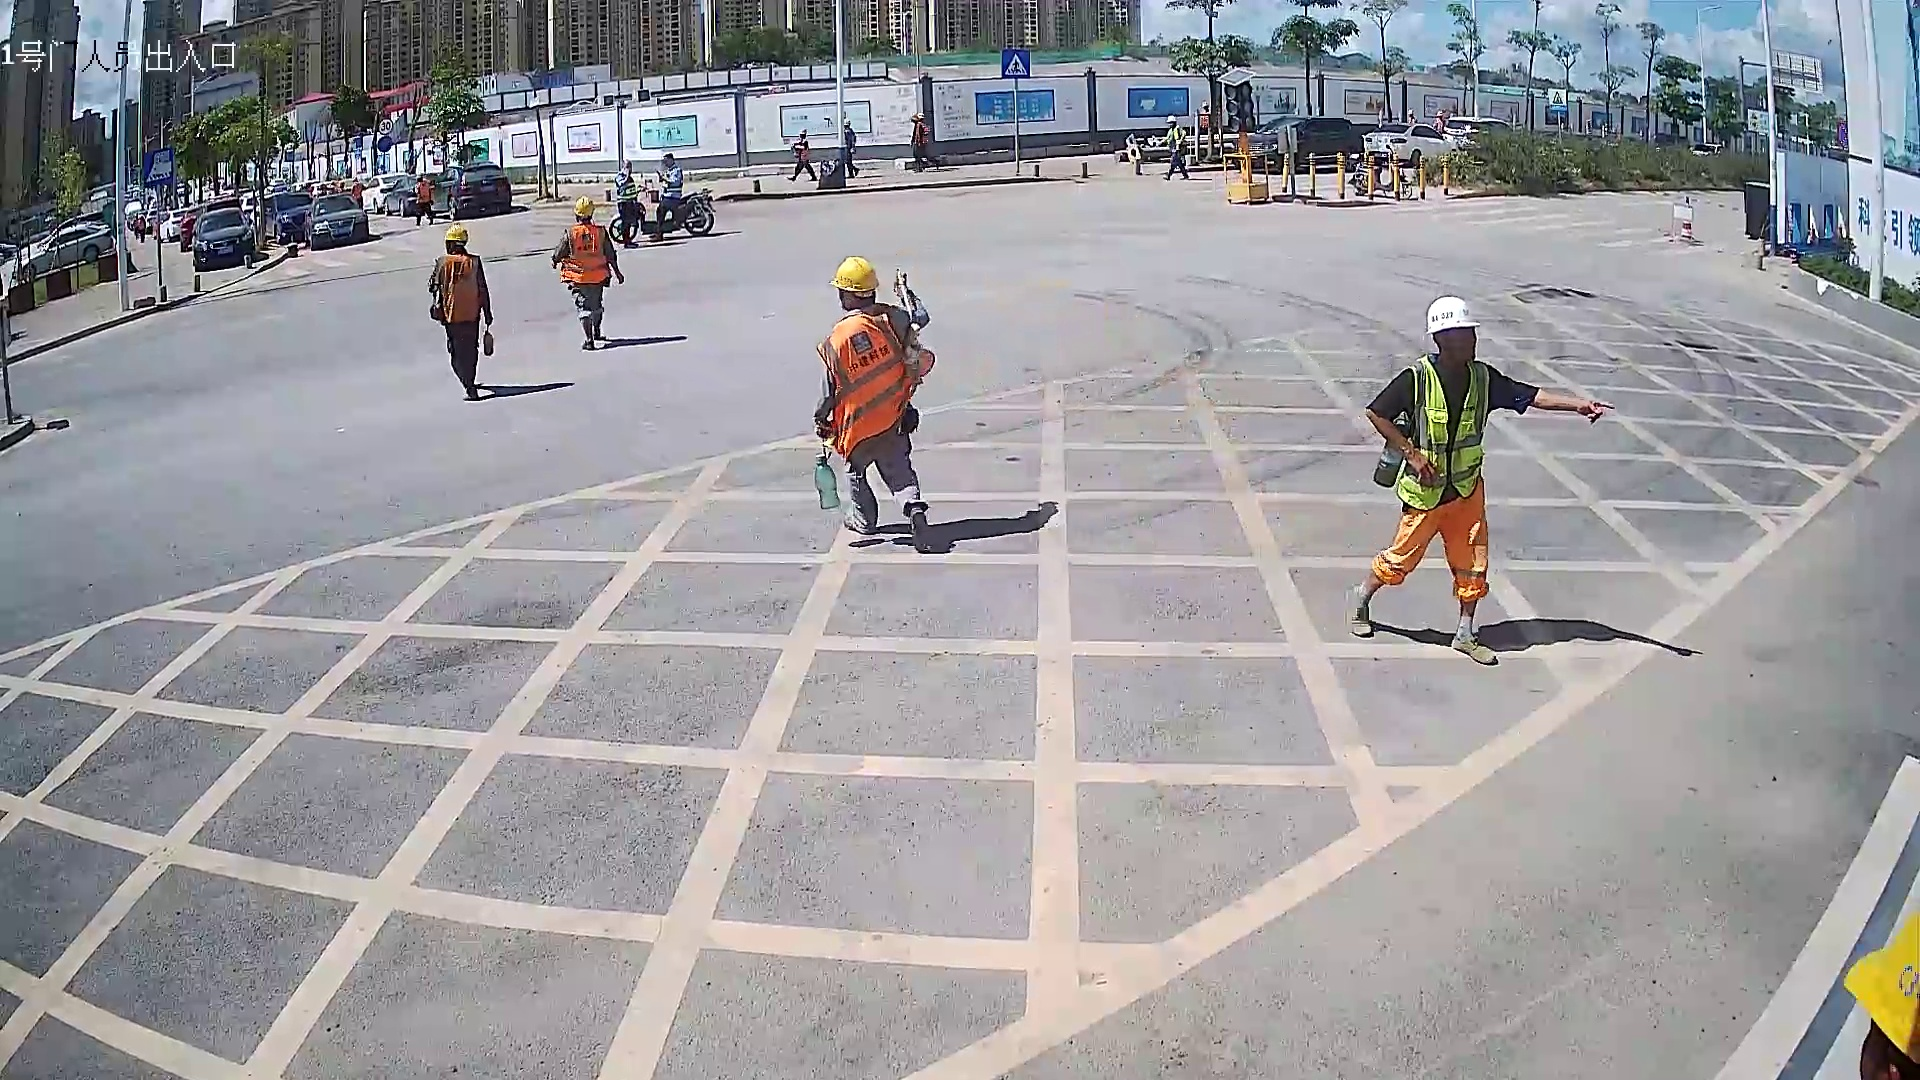person: (1342, 289, 1618, 666), (810, 253, 936, 554), (425, 221, 495, 402), (550, 192, 627, 352)
reflective_vest: (811, 304, 916, 457), (1395, 357, 1492, 512), (434, 253, 483, 325), (560, 223, 611, 285)
safety_helmet: (1425, 290, 1482, 366), (829, 254, 879, 312), (441, 221, 468, 251), (571, 192, 595, 222)
